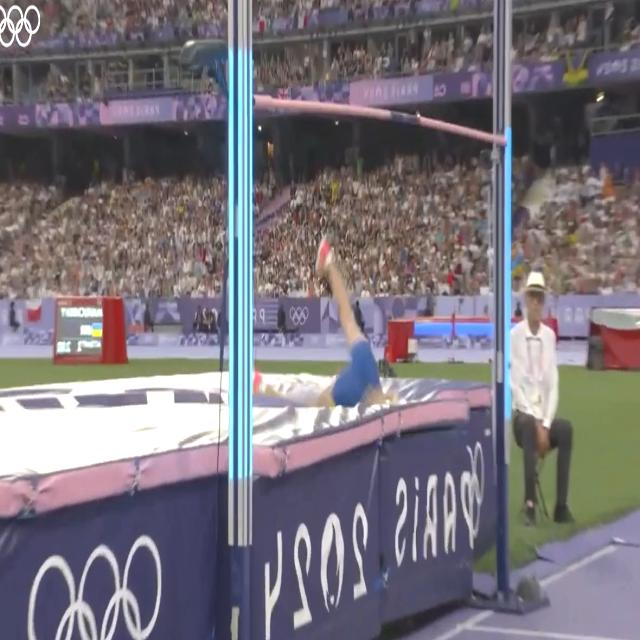land: (252, 236, 384, 423)
